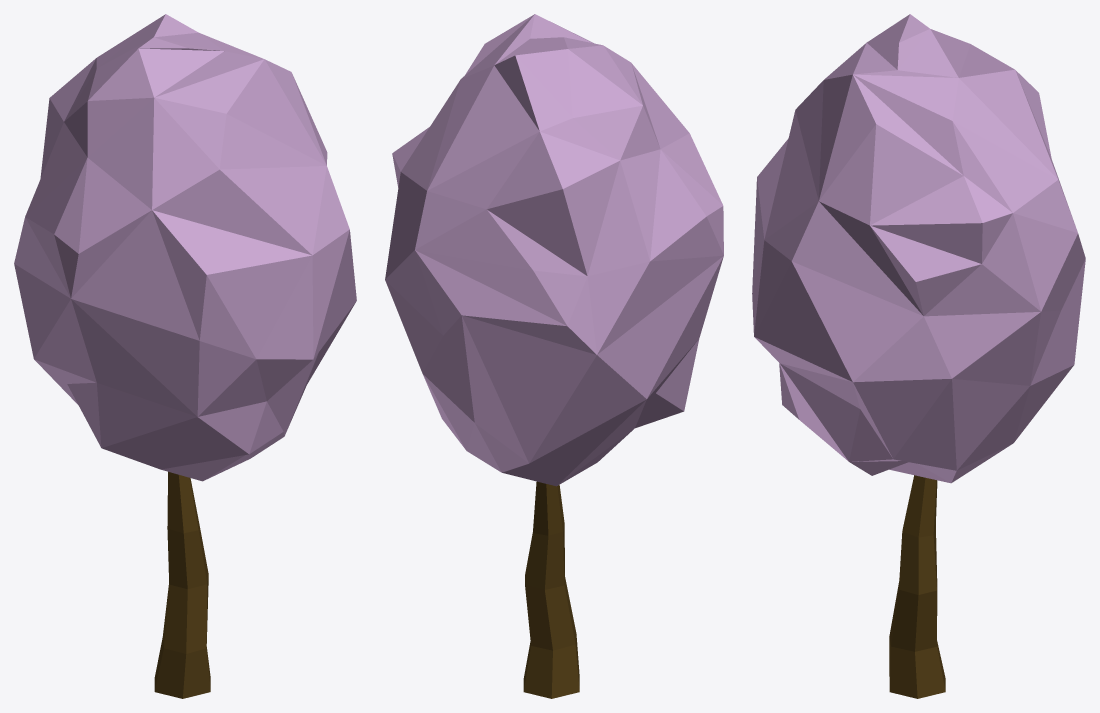
The model's file is tree_bloss.fbx.
3 views of the same model, side by side, from view 1: azimuth 30°, elevation 25°; view 2: azimuth 150°, elevation 25°; view 3: azimuth 270°, elevation 25° (orthographic).
Parts seen in each view (by area): view 1: pCube1, pCylinder1; view 2: pCube1, pCylinder1; view 3: pCube1, pCylinder1.
Boxes of the visible parts, x1,y1,x2,y2 form: pCube1: [14, 14, 356, 481]; pCylinder1: [154, 471, 210, 698]; pCube1: [385, 14, 723, 486]; pCylinder1: [523, 481, 579, 698]; pCube1: [752, 14, 1085, 483]; pCylinder1: [889, 475, 945, 698].
Size of the model in its own units: 3.35 by 7.33 by 3.42.
